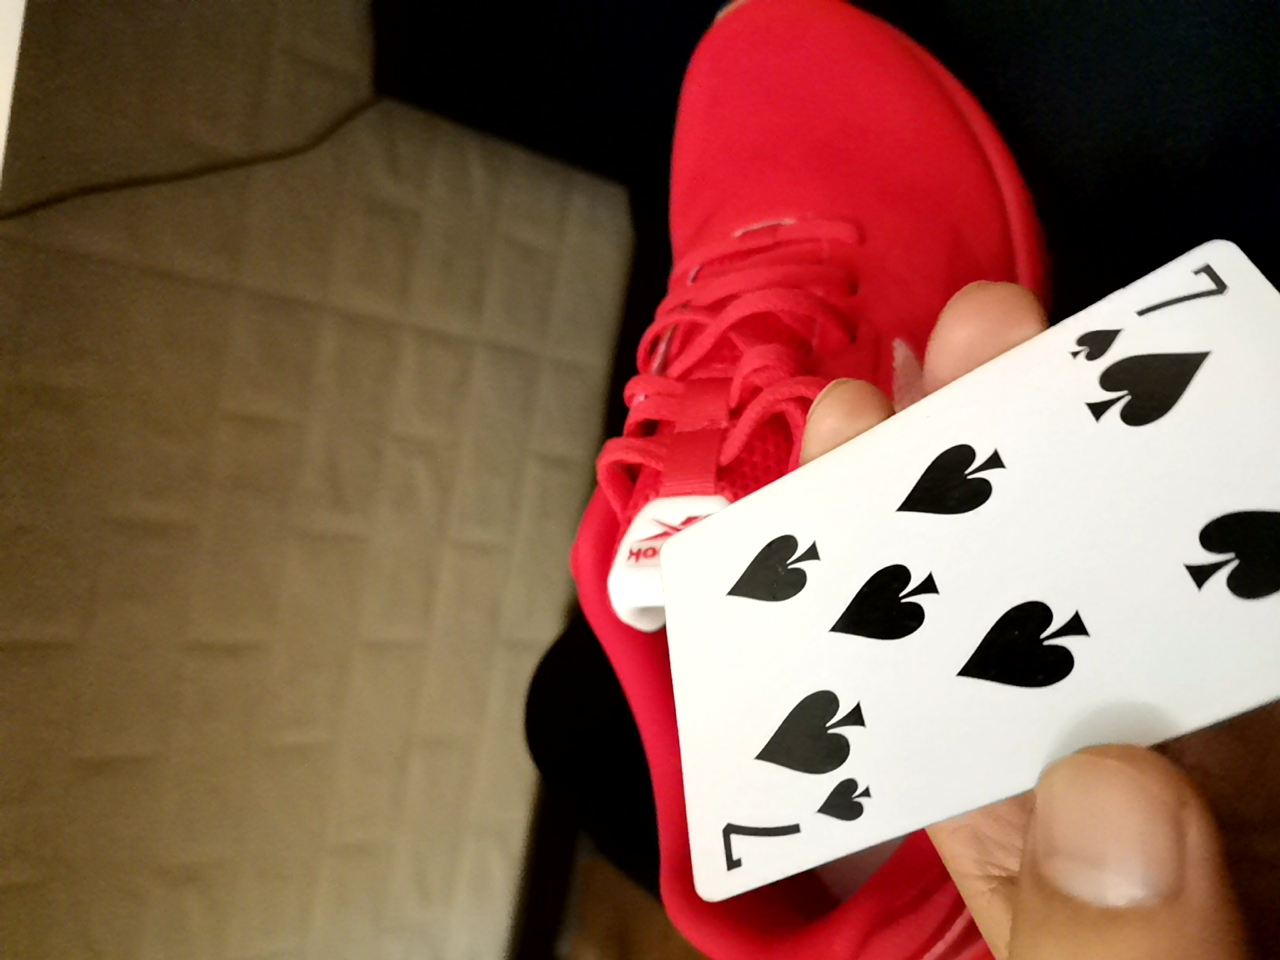ht 7: (622, 268, 1272, 887)
